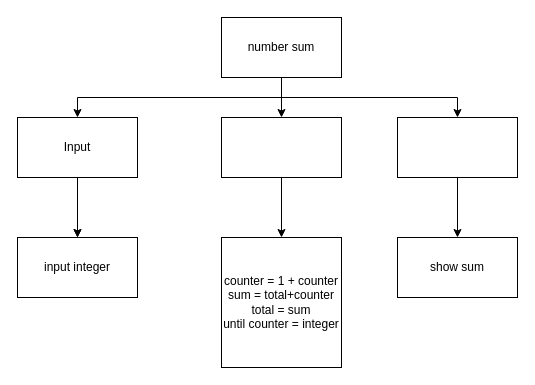
This 535x385 diagram has some shape labels left out. Here are the shapes that lost their labels. From the top down, the box of each, then its label:
(220, 116, 342, 178): Process
(396, 116, 518, 178): Output
